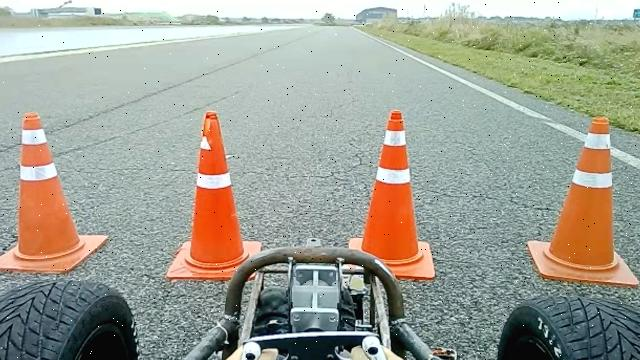red cone: (527, 115, 640, 287), (0, 111, 109, 274), (166, 110, 261, 281), (347, 108, 436, 281)
